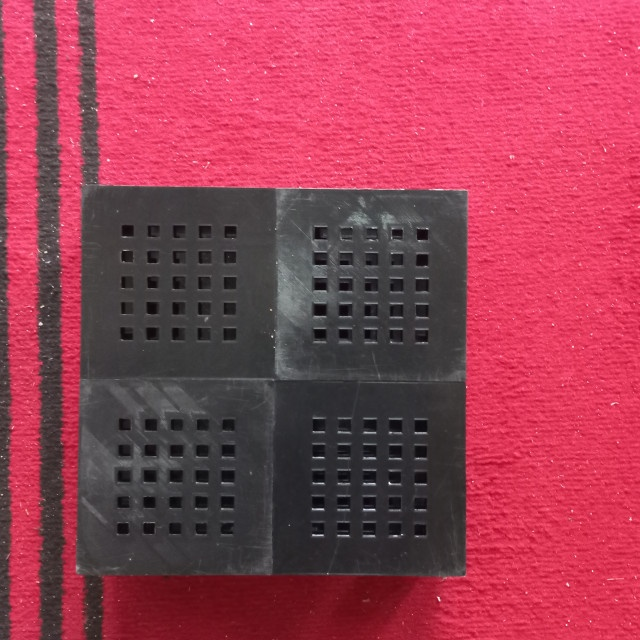pallet: (65, 176, 477, 583)
